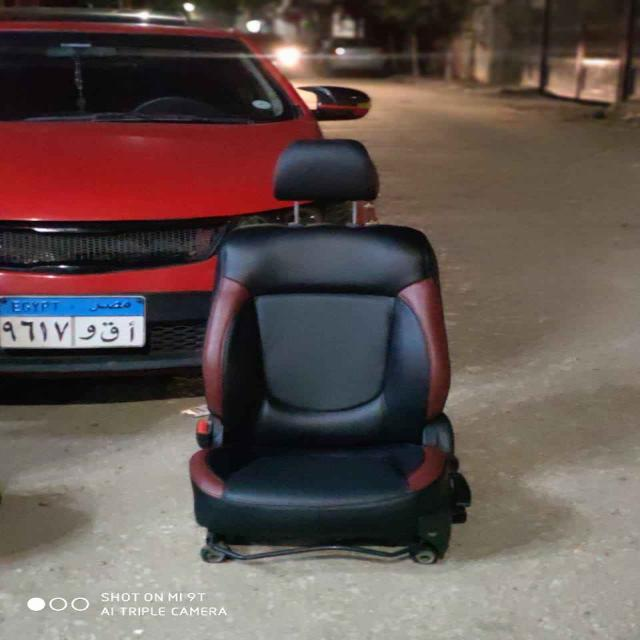License Plate: (1, 293, 150, 352)
